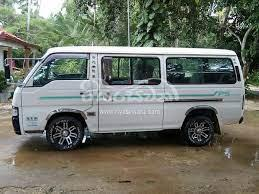Van: (10, 43, 247, 153)
